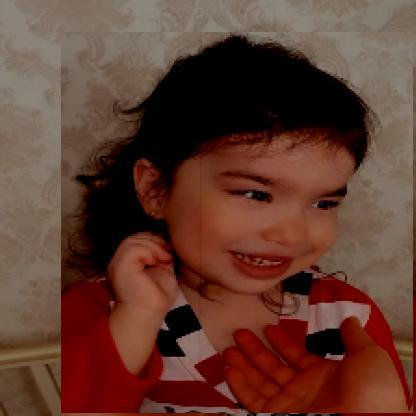child: (62, 33, 415, 415)
